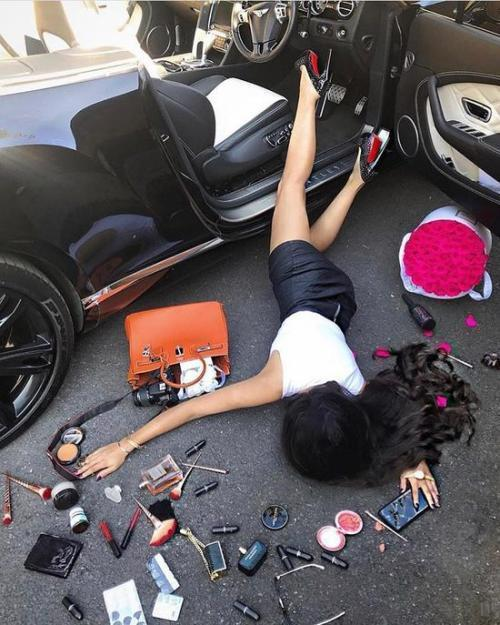Fall-Detected: (103, 29, 445, 526)
